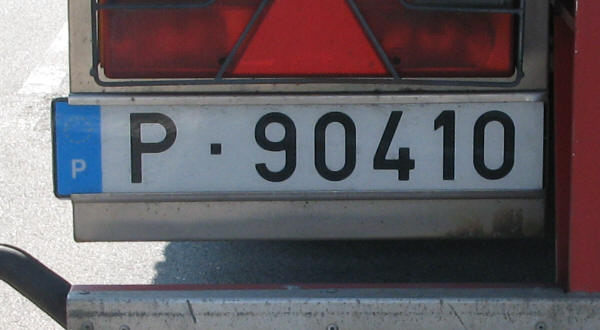license_plate: (50, 96, 550, 199)
